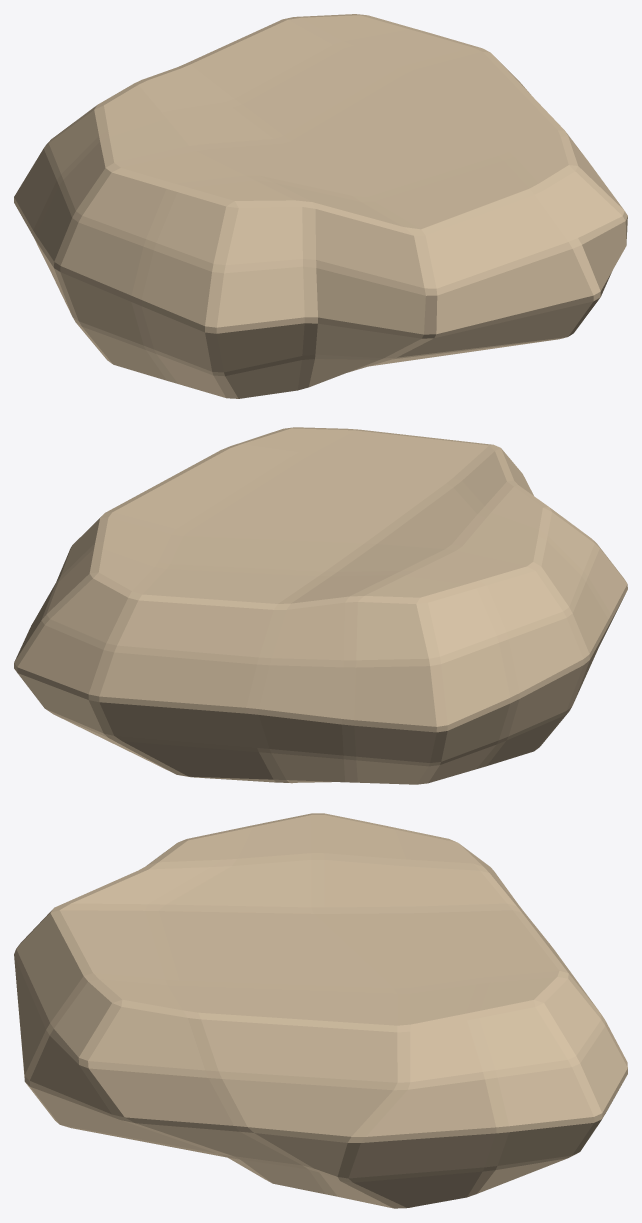
The model's file is rock_2_garden.fbx.
3 renders of one model, top to bottom at view 1: azimuth 30°, elevation 25°; view 2: azimuth 150°, elevation 25°; view 3: azimuth 270°, elevation 25°, orthographic. The views are drawn at different scales.
Parts seen in each view (by area): view 1: rock_2_garden; view 2: rock_2_garden; view 3: rock_2_garden.
Boxes of the visible parts, <box> form: rock_2_garden: <box>14,14,627,398</box>; rock_2_garden: <box>14,427,627,784</box>; rock_2_garden: <box>14,813,627,1208</box>.
Size of the model in its own units: 67.44 by 26.86 by 68.88.
